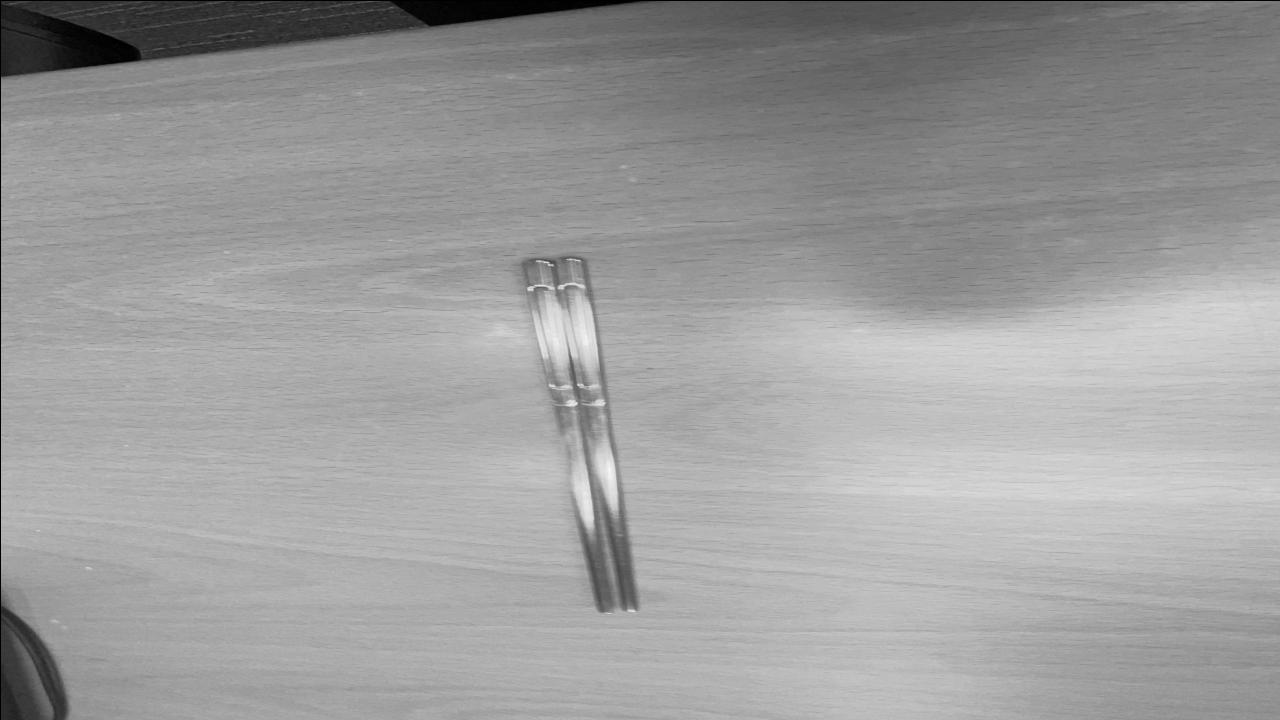chopstick: (508, 253, 656, 616)
